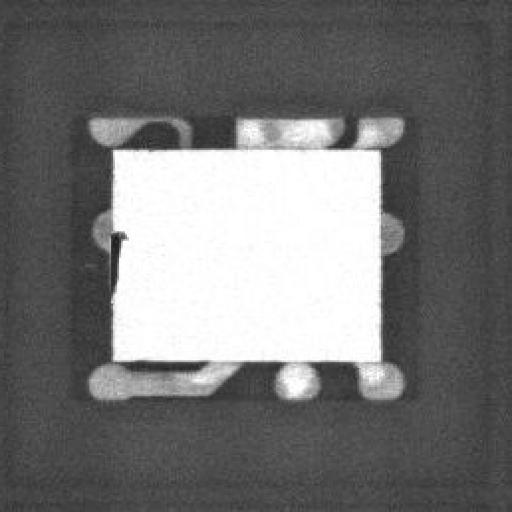DIE_BROKEN: (103, 224, 125, 296)
